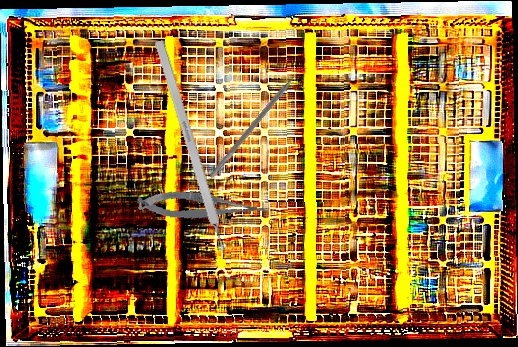Hook Surgical: (153, 39, 234, 270)
Micro Scissor: (135, 183, 271, 232)
Spatula Surgical: (208, 61, 311, 183)
